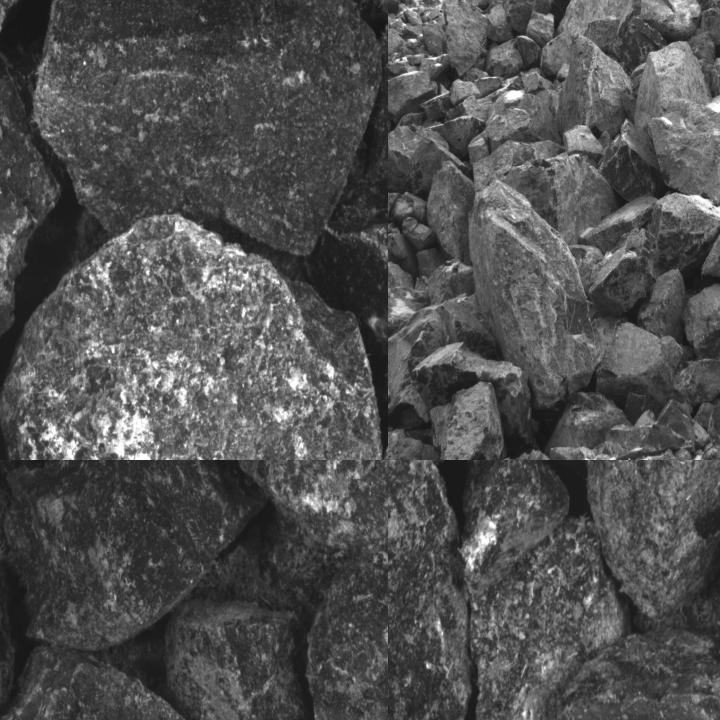stone: (0, 210, 383, 459), (32, 0, 385, 258), (0, 460, 261, 640), (470, 515, 630, 719), (176, 460, 387, 613), (463, 182, 596, 397), (573, 460, 719, 617), (0, 31, 61, 393), (388, 460, 473, 719), (162, 596, 323, 719), (322, 171, 387, 459), (460, 460, 568, 598), (558, 636, 719, 719), (542, 0, 664, 82), (652, 86, 719, 215), (596, 325, 684, 422), (557, 35, 635, 137), (634, 41, 713, 130), (588, 228, 657, 319), (430, 381, 506, 459), (646, 193, 719, 273), (600, 124, 662, 200), (428, 162, 474, 261), (485, 93, 562, 151), (388, 125, 447, 194), (582, 198, 658, 249), (0, 0, 70, 51), (615, 0, 703, 40), (441, 0, 486, 77), (641, 267, 685, 339), (388, 70, 439, 121), (388, 286, 428, 346), (673, 358, 719, 406), (503, 0, 554, 38), (527, 11, 553, 45), (517, 36, 541, 70)
